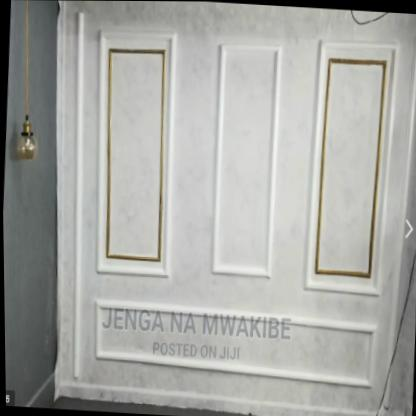Futec frame: (85, 22, 396, 298)
